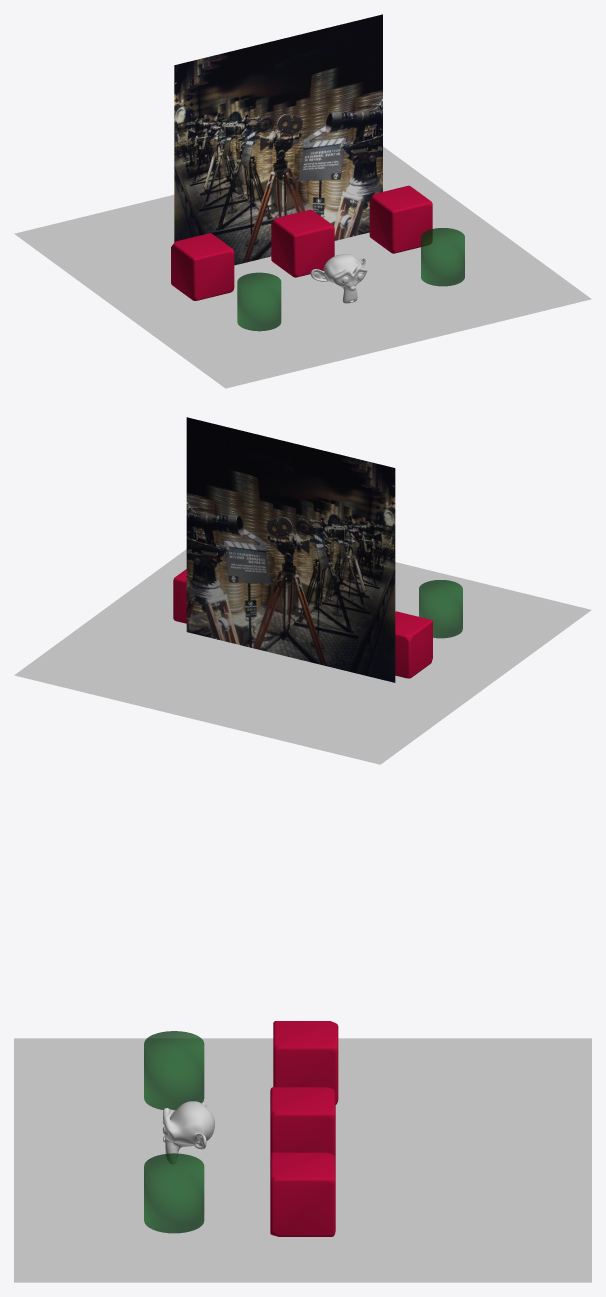
3 views of the same model, one above another, from view 1: azimuth 30°, elevation 25°; view 2: azimuth 150°, elevation 25°; view 3: azimuth 270°, elevation 25° (orthographic). The views are drawn at different scales.
Visible parts, largest first — view 1: Plane, Plane_001, Cube_001, Cube_002, Cube, Cylinder, Cylinder_001, Suzanne; view 2: Plane, Plane_001, Cube_001, Cylinder, Cube_002; view 3: Plane, Cube_002, Cylinder_001, Cube_001, Cylinder, Cube, Suzanne.
Boxes of the visible parts, box(x1,y1,x2,y2) form: Plane: box(14, 146, 591, 388); Plane_001: box(174, 14, 382, 265); Cube_001: box(171, 233, 234, 300); Cube_002: box(369, 185, 432, 253); Cube: box(271, 209, 334, 277); Cylinder: box(237, 272, 281, 331); Cylinder_001: box(421, 228, 464, 286); Suzanne: box(310, 254, 367, 303); Plane: box(14, 549, 591, 764); Plane_001: box(186, 417, 395, 682); Cube_001: box(395, 611, 432, 678); Cylinder: box(419, 580, 462, 638); Cube_002: box(173, 569, 186, 623); Plane: box(14, 1038, 591, 1282); Cube_002: box(270, 1152, 335, 1236); Cylinder_001: box(144, 1153, 204, 1233); Cube_001: box(273, 1021, 338, 1104); Cylinder: box(144, 1031, 204, 1110); Cube: box(270, 1087, 335, 1157); Suzanne: box(162, 1101, 214, 1163).
Size of the model in its own units: 5.05 by 5.05 by 2.88.
